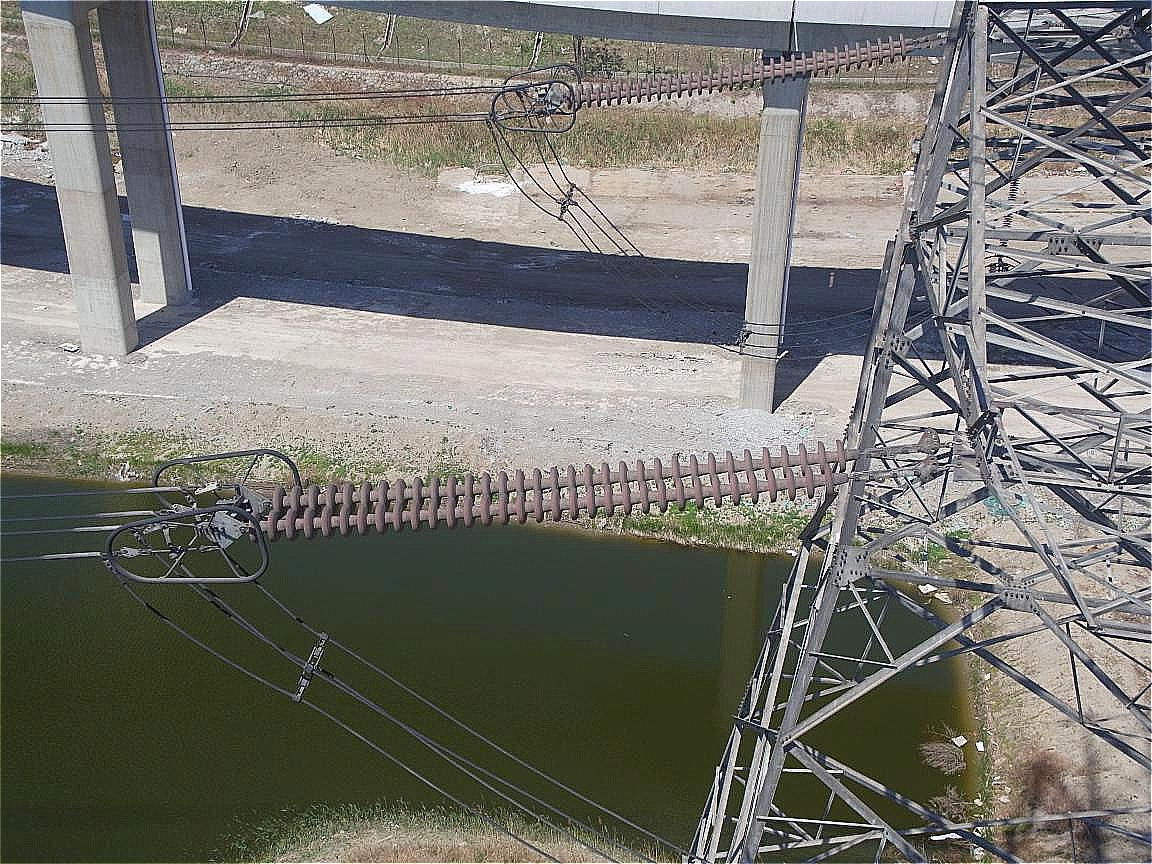insultor1: (227, 434, 855, 545), (560, 31, 922, 116)
